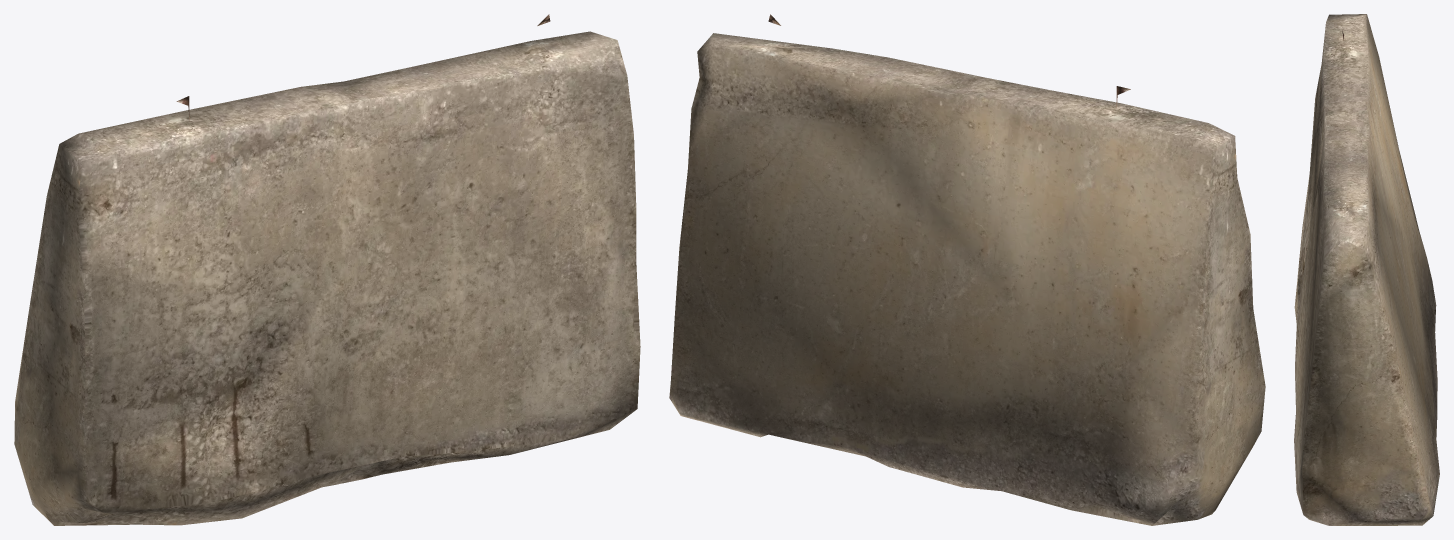
The model's file is barrier.glb.
3 renders of one model, left to right at view 1: azimuth 30°, elevation 25°; view 2: azimuth 150°, elevation 25°; view 3: azimuth 270°, elevation 25°, orthographic. The views are drawn at different scales.
Visible parts, largest first — view 1: concrete_road_barrier_02; view 2: concrete_road_barrier_02; view 3: concrete_road_barrier_02.
Part boxes in pixels (left/top/right/bottom): concrete_road_barrier_02: left=14, top=14, right=640, bottom=525; concrete_road_barrier_02: left=669, top=14, right=1265, bottom=525; concrete_road_barrier_02: left=1294, top=14, right=1439, bottom=525.
Bounding box in the file's own units: 1.56 × 1.09 × 0.437.
Materials: 1 (1 with a texture image).
